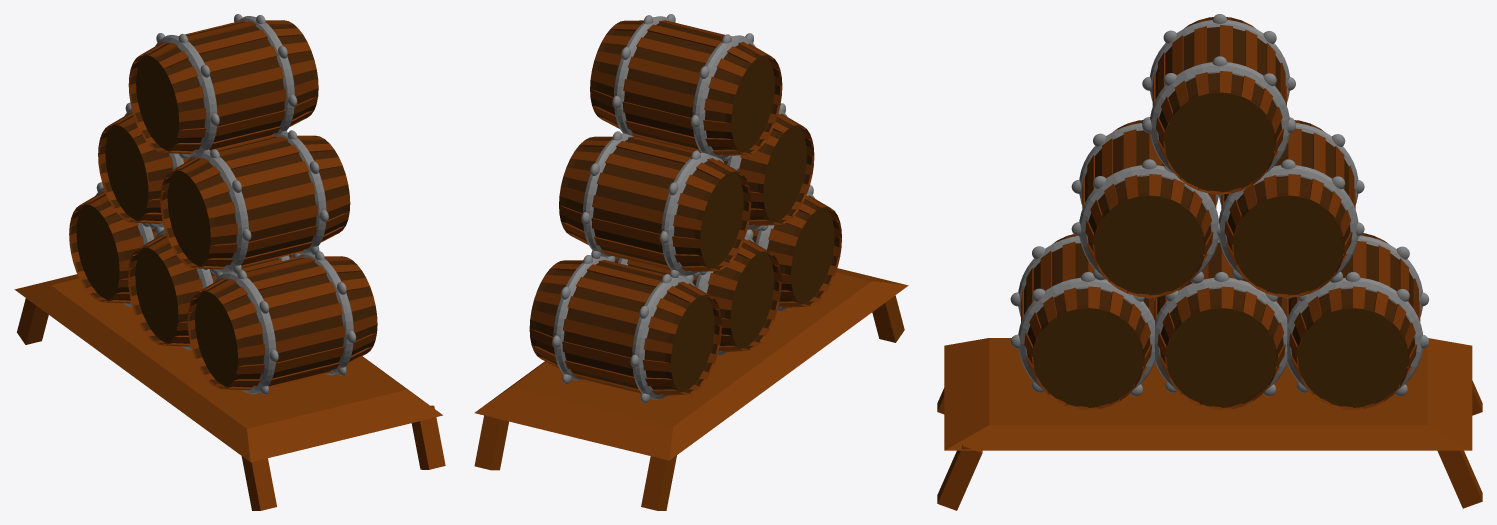
Rendered from barrilpilha.fbx.
The picture shows the model from 3 angles, left to right: view 1: azimuth 30°, elevation 25°; view 2: azimuth 150°, elevation 25°; view 3: azimuth 270°, elevation 25°; orthographic projection. The views are drawn at different scales.
Visible parts, largest first — view 1: barrilpilha; view 2: barrilpilha; view 3: barrilpilha.
Part boxes in pixels (x1,y1,x2,y2): barrilpilha: [14, 14, 445, 510]; barrilpilha: [474, 14, 908, 510]; barrilpilha: [937, 14, 1482, 510].
Size of the model in its own units: 221 by 414 by 484.
